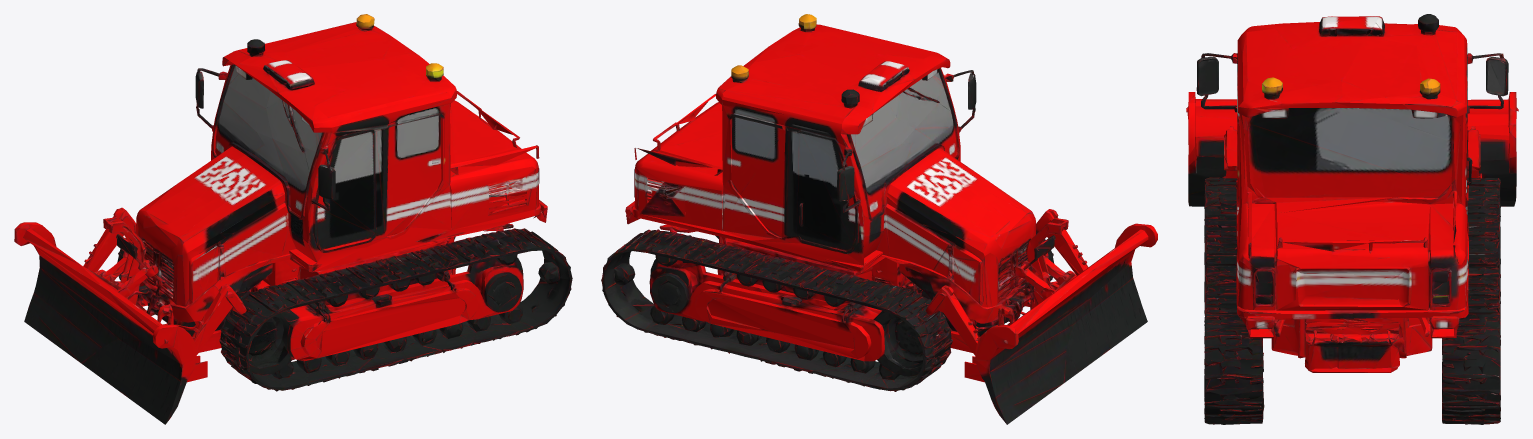
Rendered from snowcat.glb.
3 renders of one model, left to right at view 1: azimuth 30°, elevation 25°; view 2: azimuth 150°, elevation 25°; view 3: azimuth 270°, elevation 25°, orthographic. The views are drawn at different scales.
Bounding box in the file's own units: 1.9 × 1.14 × 1.12.
1 material, 1 textured.
